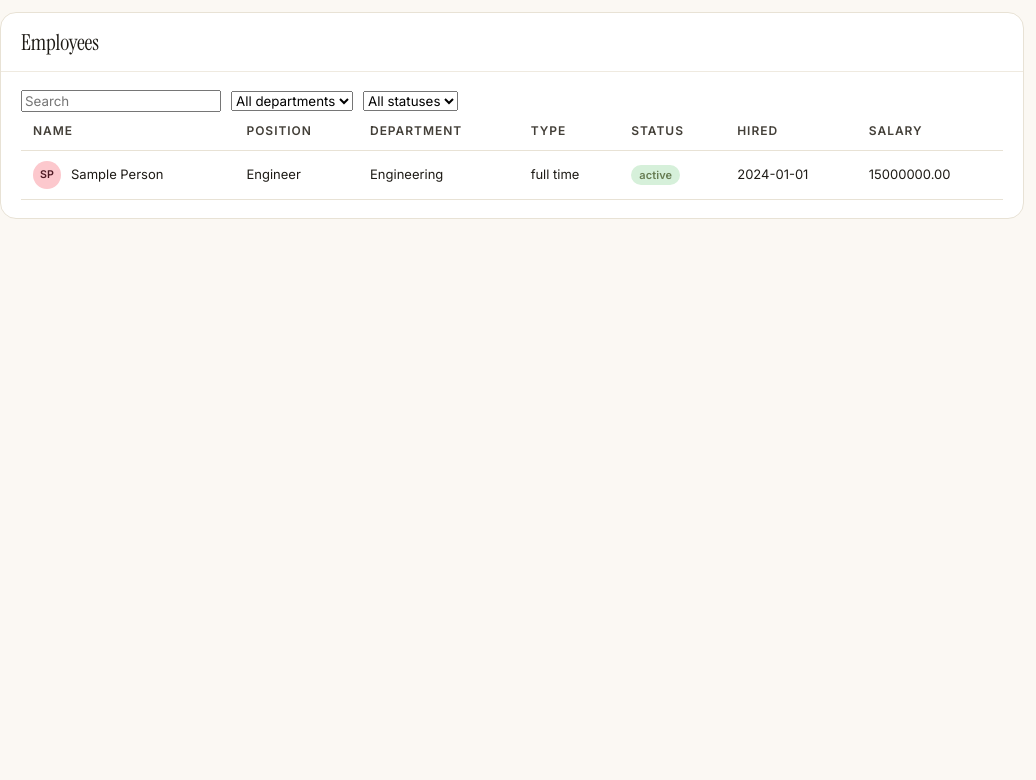
Test case: EmployeesPage › renders rows and opens drawer on row click
Click the text "Sample Person". click: click(117, 175)
box: [71,165,163,185]
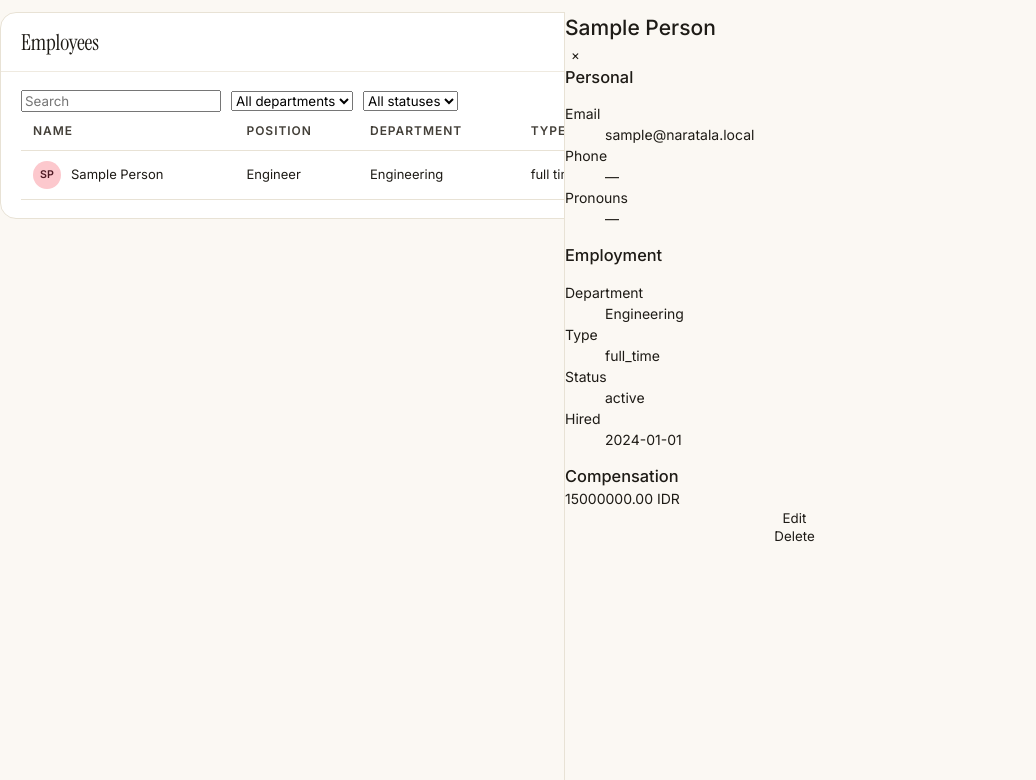
Result: the element named "employee details" is shown at [564,12,1024,779]
